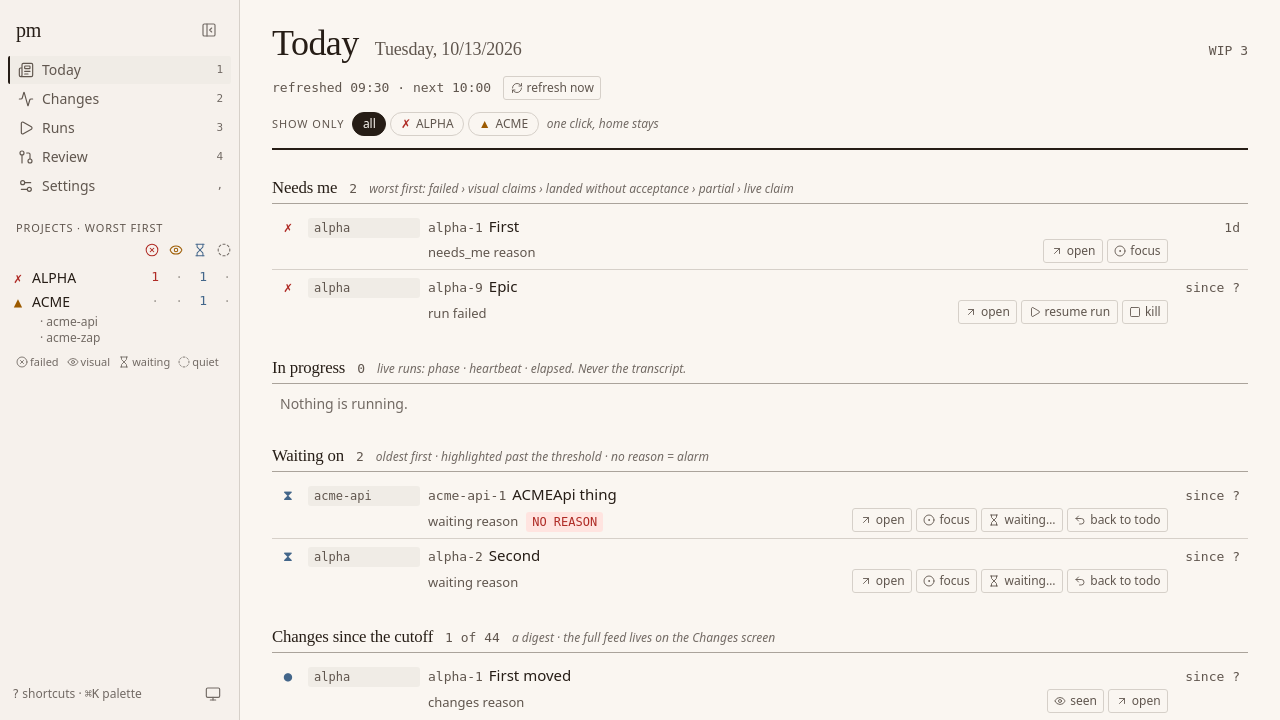
run control goes through the dialog with the argv preview › resume run shows the server plan, a flag re-plans, Esc sends nothing, confirm posts the flags
The image size is (1280, 720).
expect the button "kill" is enabled: met, box 1122,300 -> 1168,324
Click the button "resume run" at x=1069, y=312, box 1021,300 -> 1118,324
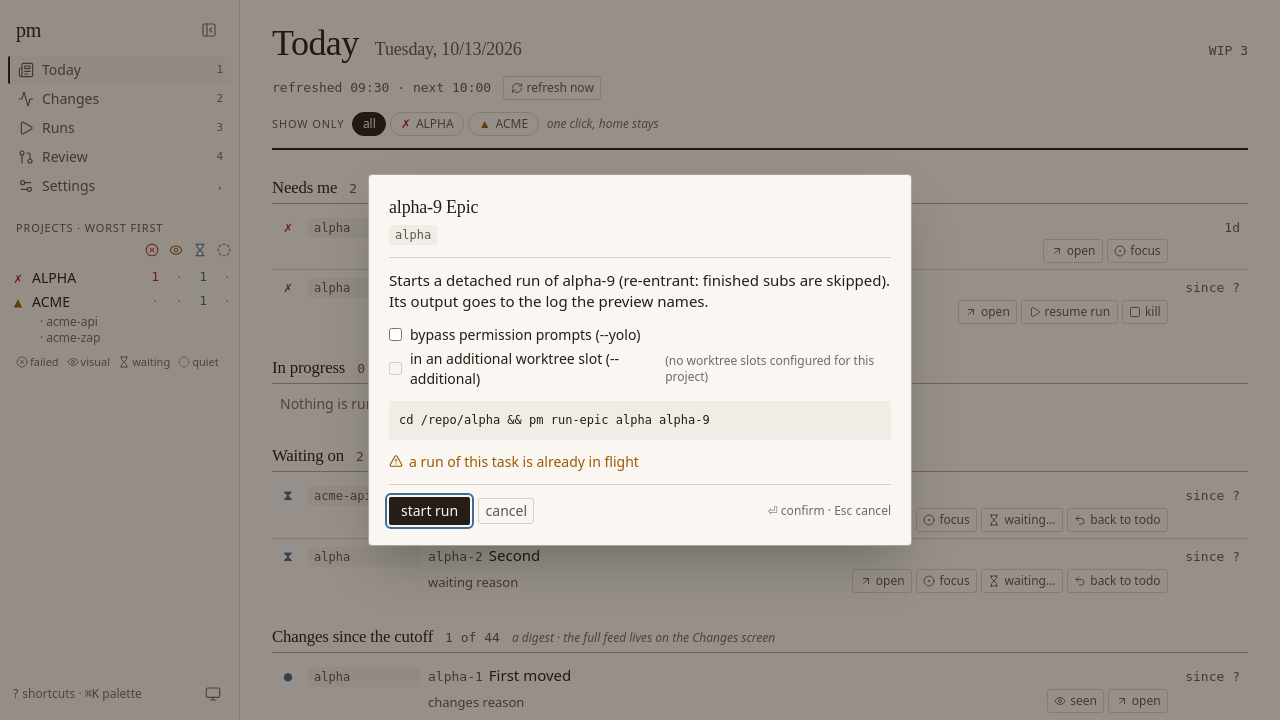
expect the text named "command preview" reads "cd /repo/alpha && pm run-epic alpha alpha-9": met, box 399,412 -> 710,426
expect the message shows "already in flight": met, box 409,452 -> 639,471
expect the checkbox labelled "additional worktree" is disabled: met, box 389,362 -> 402,375
Click the checkbox labelled "bypass permission prompts (--yolo)" at x=396, y=334, box 389,328 -> 402,341
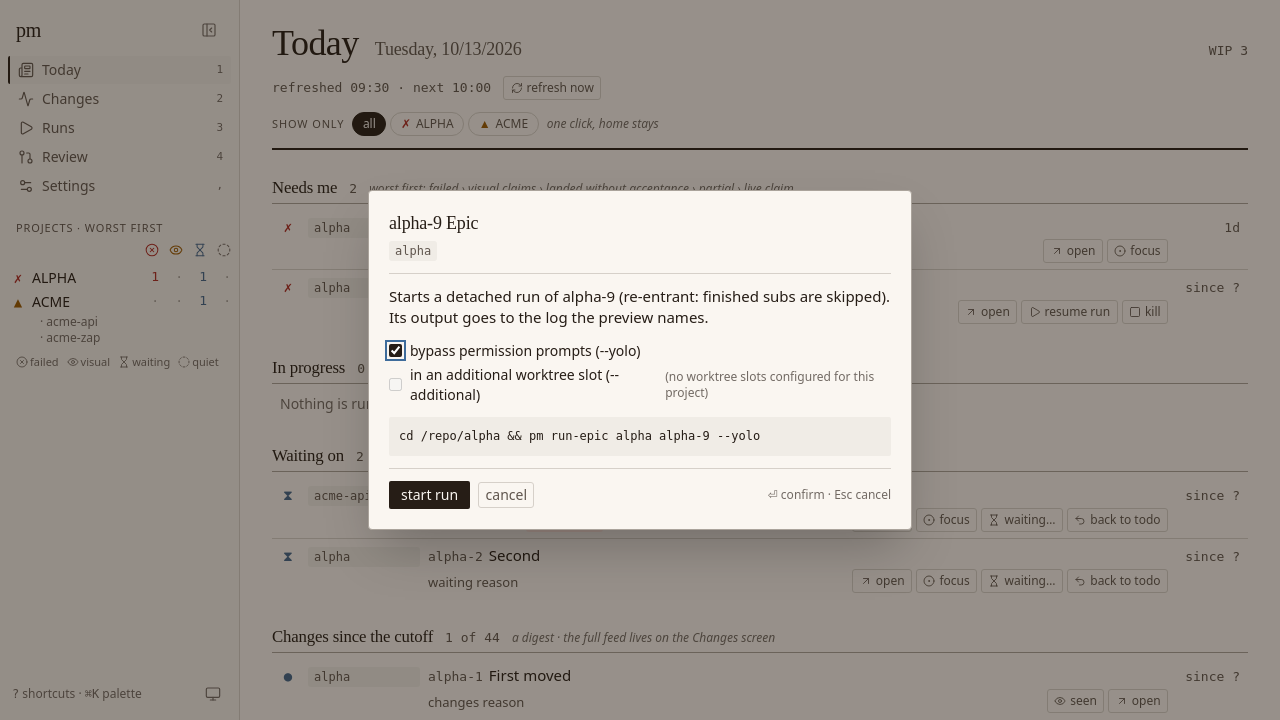
expect the text named "command preview" shows "--yolo": met, box 399,428 -> 760,442
Press Escape
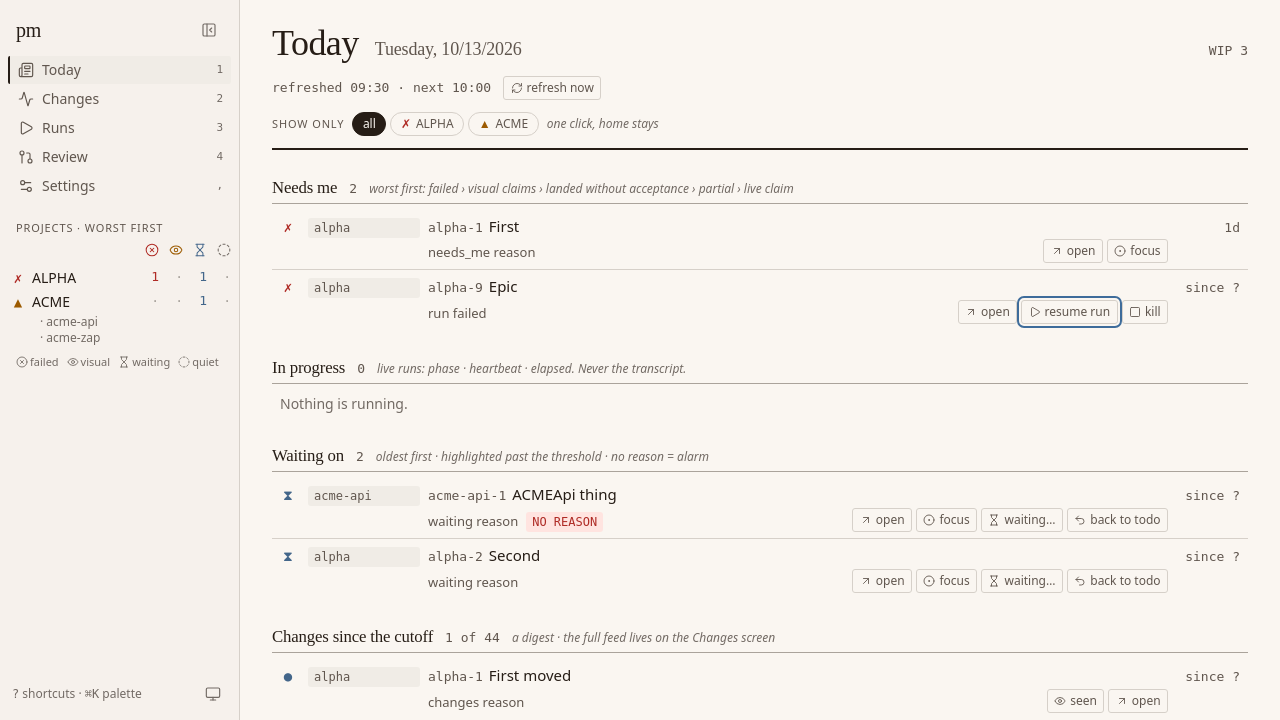
Click the button "resume run" at x=1069, y=312, box 1021,300 -> 1118,324
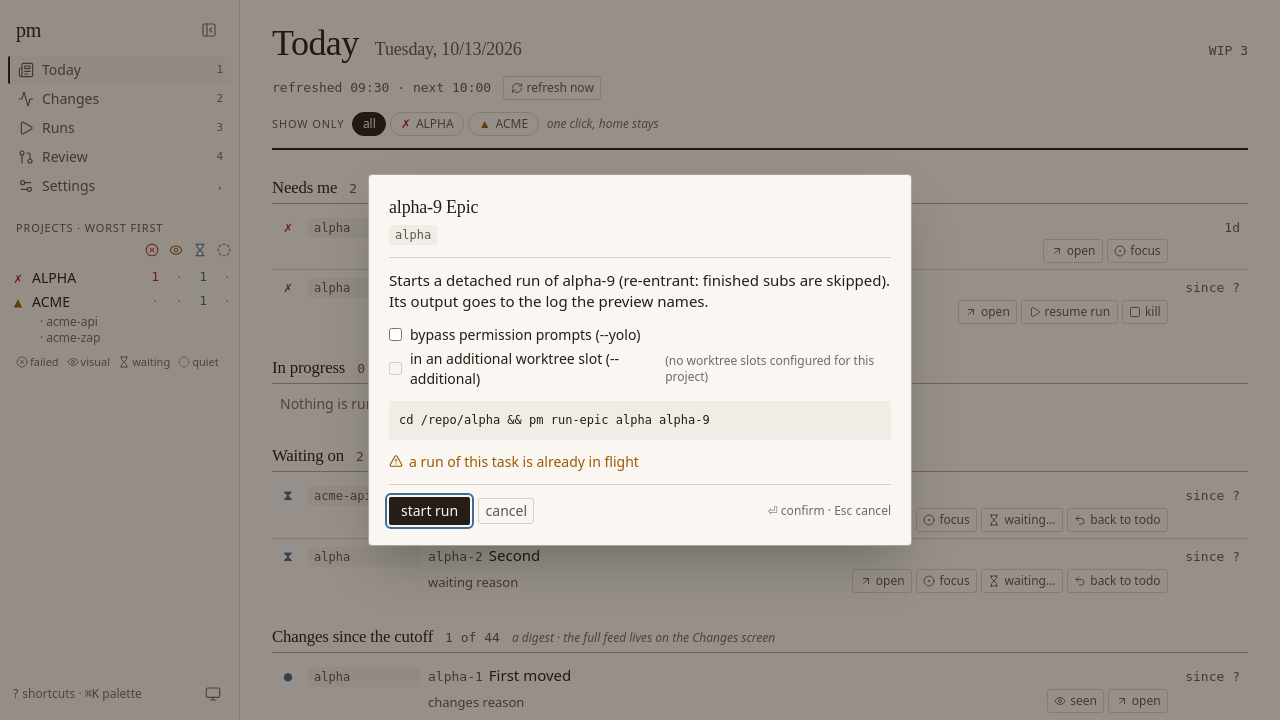
expect the text named "command preview" is shown: met, box 389,400 -> 891,440
Click the checkbox labelled "bypass permission prompts (--yolo)" at x=396, y=334, box 389,328 -> 402,341
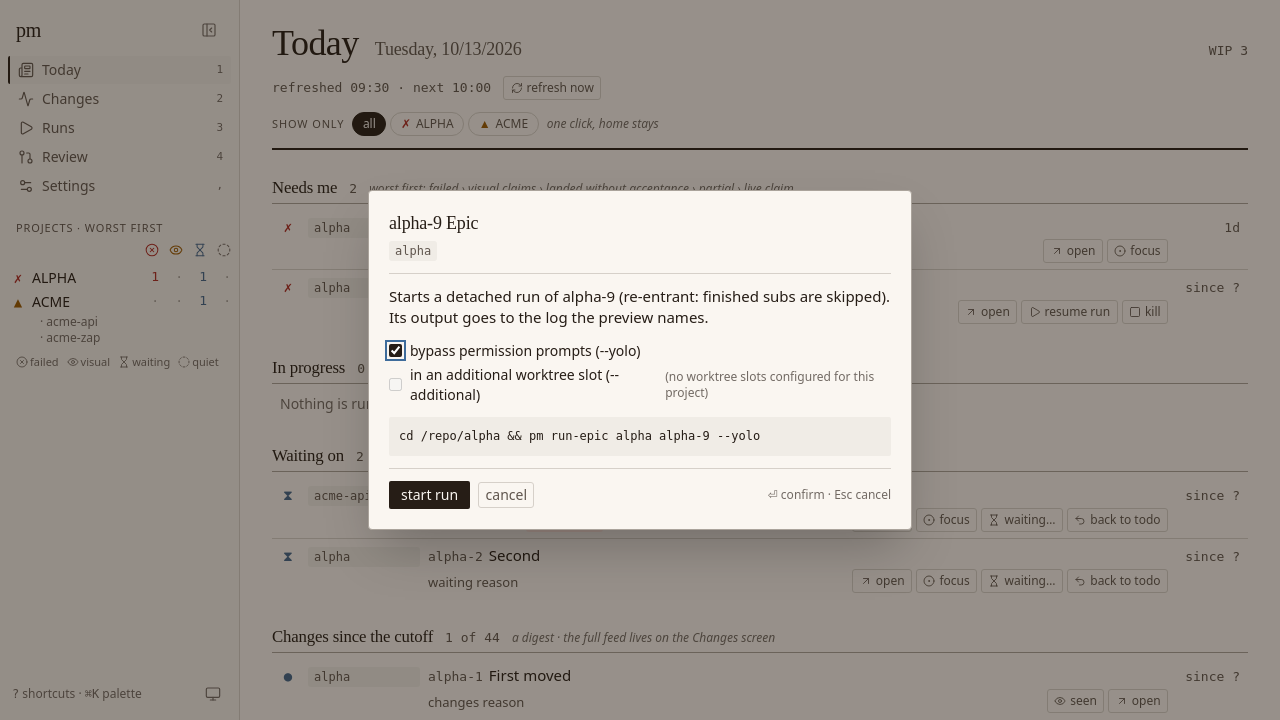
expect the button "start run" is enabled: met
Click the button "start run" at x=430, y=495, box 389,481 -> 470,509
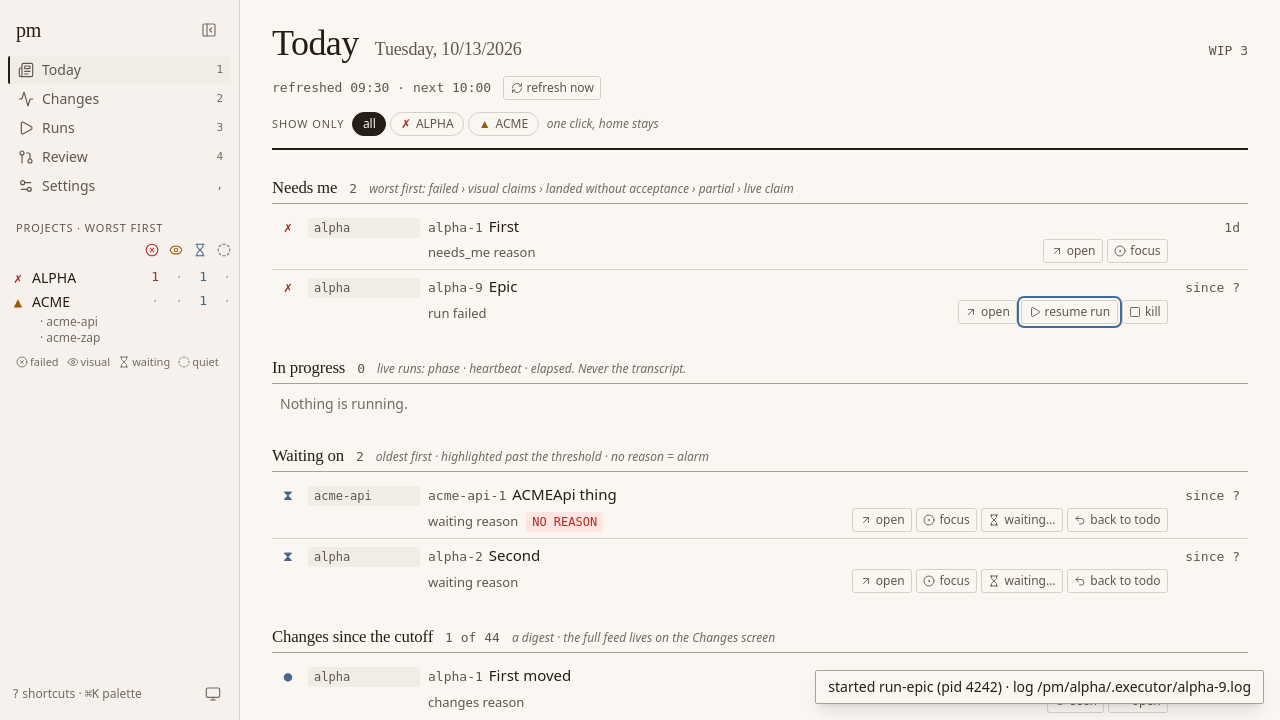
expect the message shows "started run-epic (pid 4242)": met, box 828,677 -> 1251,696
